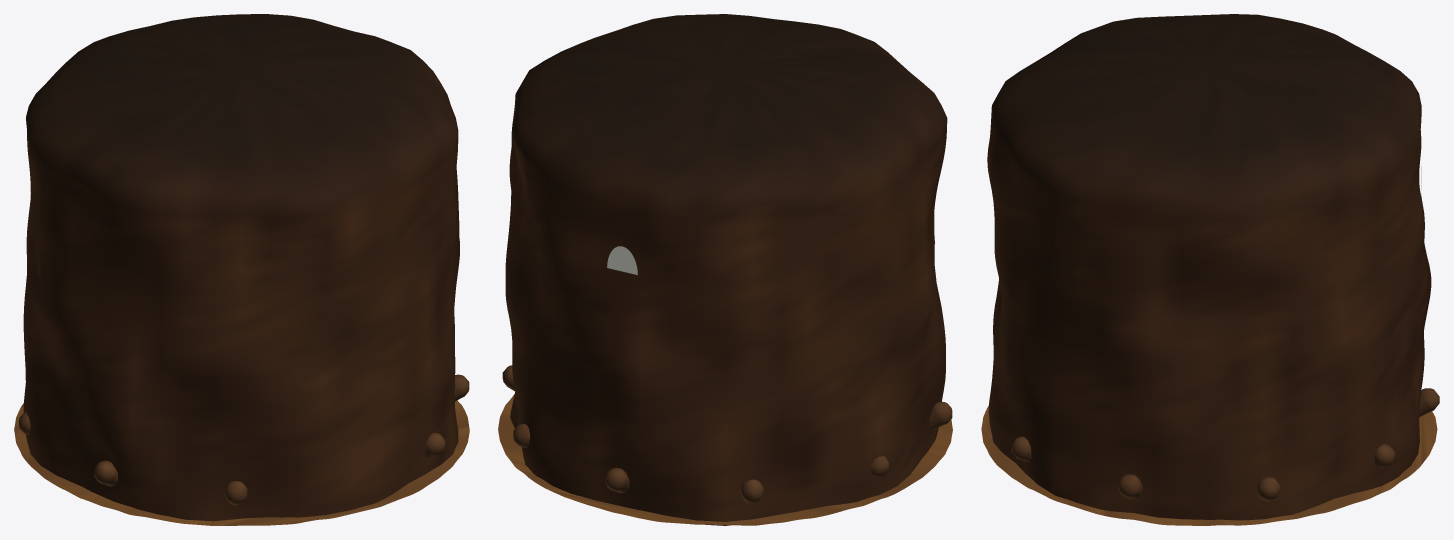
File: OakInside.glb
The picture shows the model from 3 angles, left to right: view 1: azimuth 30°, elevation 25°; view 2: azimuth 150°, elevation 25°; view 3: azimuth 270°, elevation 25°; orthographic projection.
Parts seen in each view (by area): view 1: Wall, Floor, Roots; view 2: Wall, Floor, Roots, Lights; view 3: Wall, Floor, Roots.
Part boxes in pixels (left/top/right/bottom): Wall: left=23, top=14, right=459, bottom=521; Floor: left=14, top=400, right=469, bottom=525; Roots: left=19, top=374, right=469, bottom=505; Wall: left=505, top=14, right=947, bottom=525; Floor: left=498, top=394, right=952, bottom=525; Roots: left=502, top=365, right=952, bottom=503; Lights: left=607, top=246, right=637, bottom=274; Wall: left=987, top=14, right=1431, bottom=520; Floor: left=981, top=405, right=1437, bottom=525; Roots: left=1011, top=388, right=1439, bottom=501.
Bounding box in the file's own units: 4.9 × 4.42 × 4.92.
